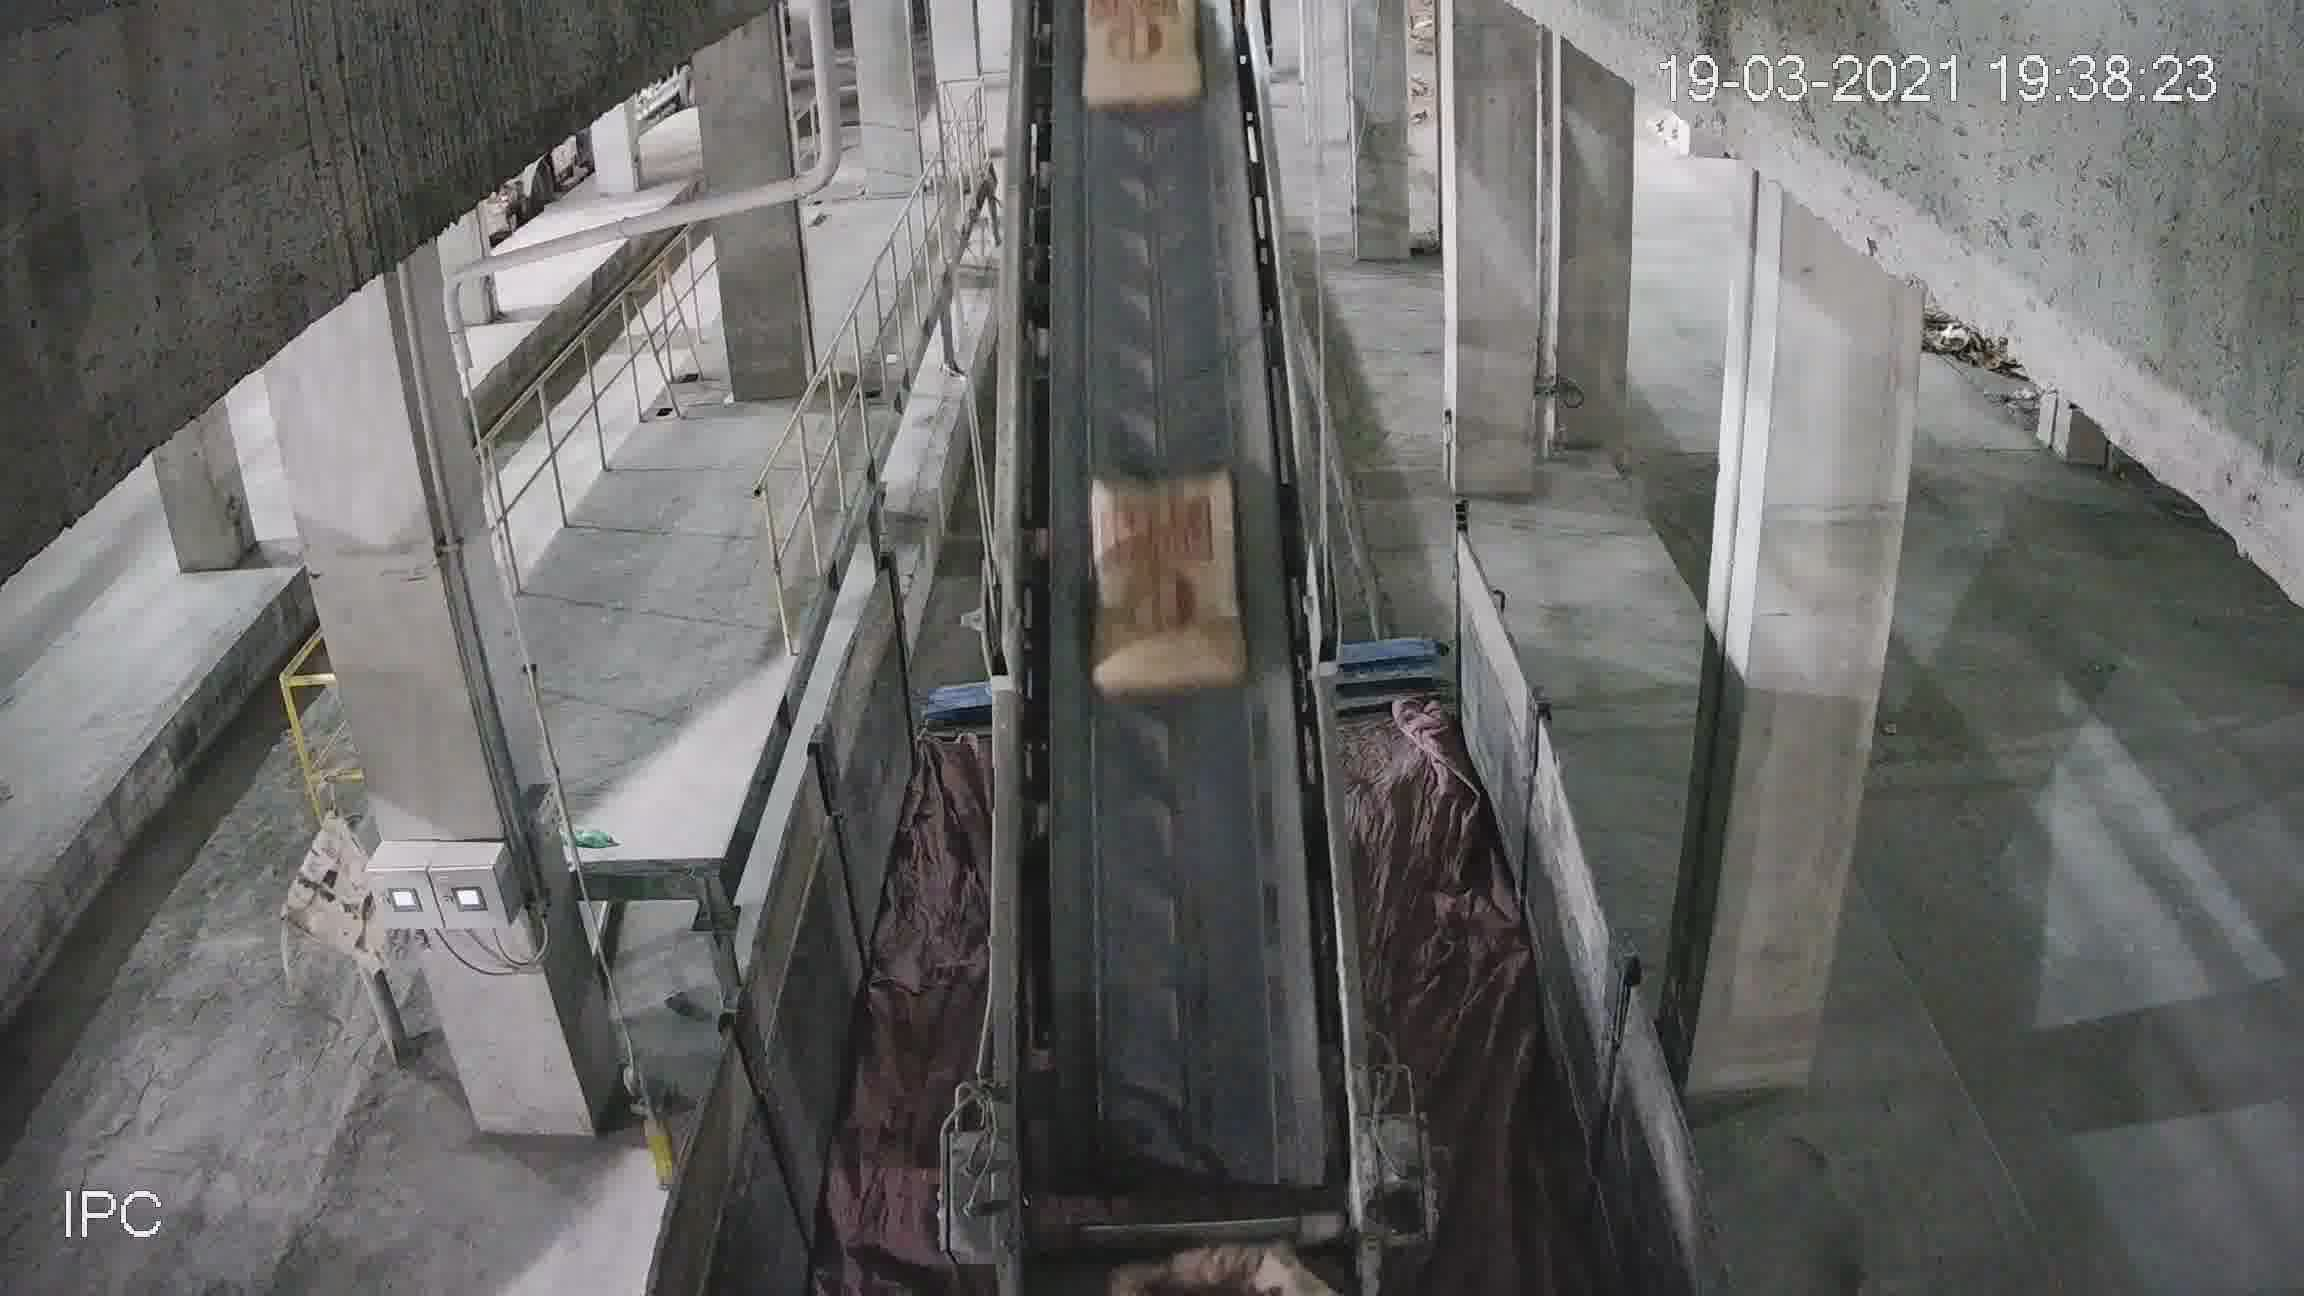bag: (1090, 478, 1244, 680), (1082, 28, 1206, 108)
belt: (1010, 138, 1332, 1241)
